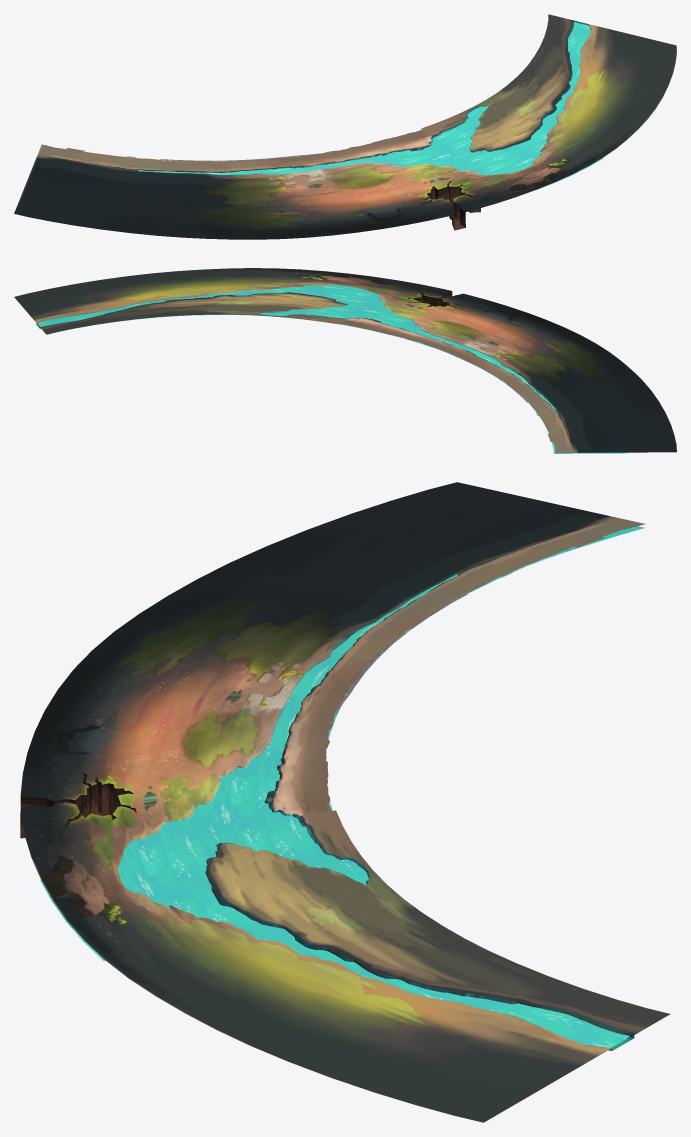
File: water.fbx
3 renders of one model, top to bottom at view 1: azimuth 30°, elevation 25°; view 2: azimuth 150°, elevation 25°; view 3: azimuth 270°, elevation 25°, orthographic. The views are drawn at different scales.
Parts seen in each view (by area): view 1: di_biao, sui_mian; view 2: di_biao, sui_mian; view 3: di_biao, sui_mian.
Boxes of the visible parts, <box> form: di_biao: <box>14,14,676,239</box>; sui_mian: <box>138,22,602,190</box>; di_biao: <box>14,268,676,453</box>; sui_mian: <box>38,284,627,453</box>; di_biao: <box>20,482,670,1122</box>; sui_mian: <box>40,526,644,1047</box>.
Size of the model in its own units: 4641 by 209 by 1991.
3 materials, 3 textured.
